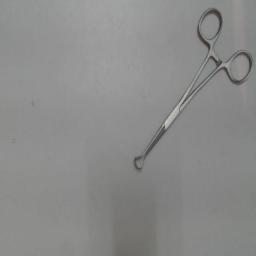Babcock Tissue Forceps: (130, 4, 256, 174)
